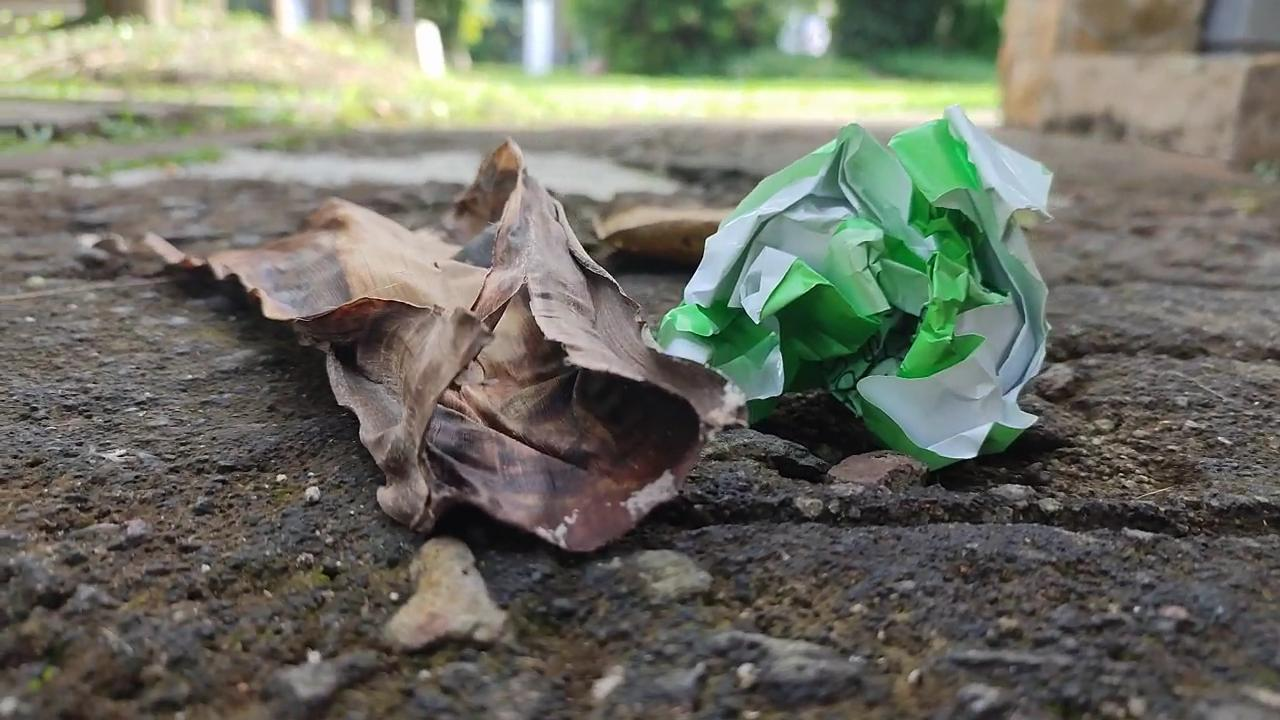Paper: (671, 97, 1074, 475)
